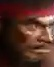ryu: (9, 2, 53, 60)
